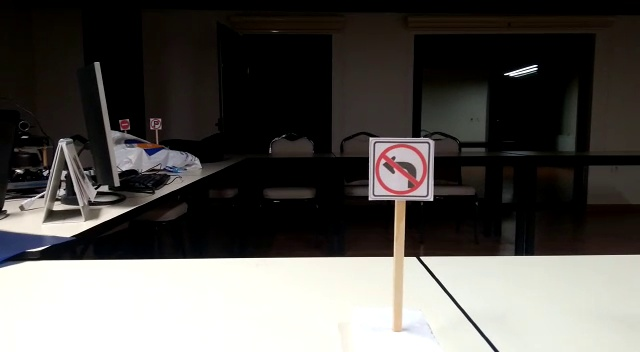sola_donulmez: (373, 141, 431, 201)
